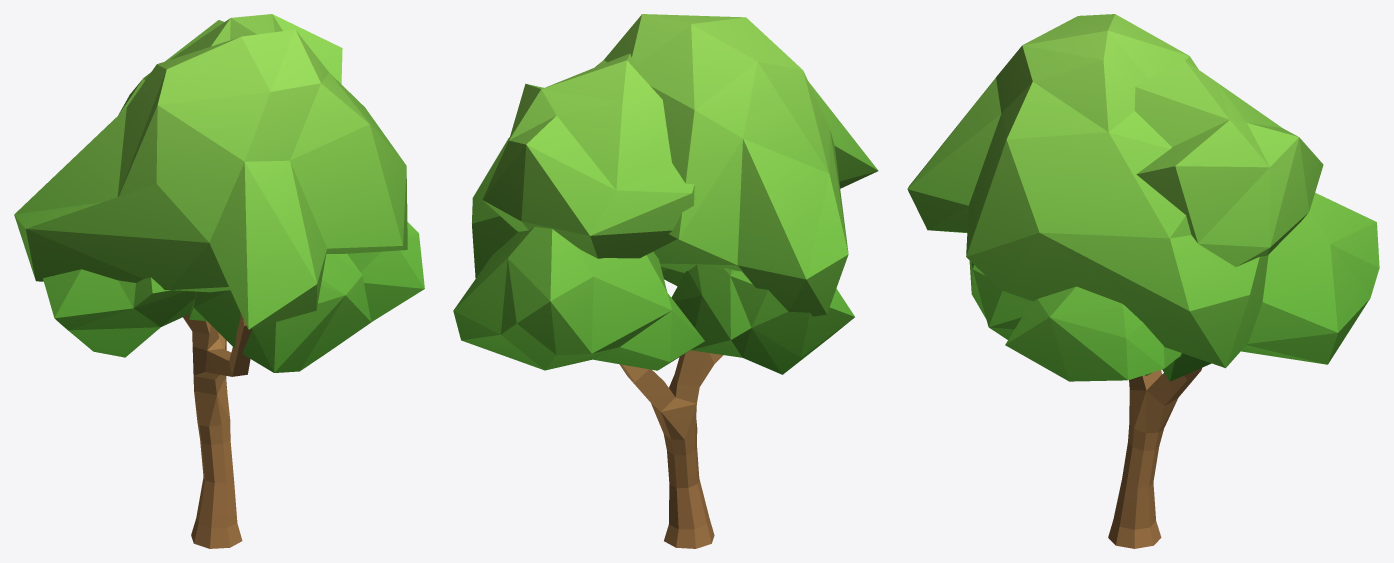
The model's file is LP_Tree_02.fbx.
3 views of the same model, side by side, from view 1: azimuth 30°, elevation 25°; view 2: azimuth 150°, elevation 25°; view 3: azimuth 270°, elevation 25° (orthographic). The views are drawn at different scales.
Parts seen in each view (by area): view 1: LP_Tree_02_LOD0; view 2: LP_Tree_02_LOD0; view 3: LP_Tree_02_LOD0.
Part boxes in pixels (x1,y1,x2,y2): LP_Tree_02_LOD0: [14, 14, 424, 548]; LP_Tree_02_LOD0: [453, 14, 878, 548]; LP_Tree_02_LOD0: [907, 14, 1379, 548].
Size of what is drawn, in the model's own units: 4.52 by 5.96 by 4.98.
